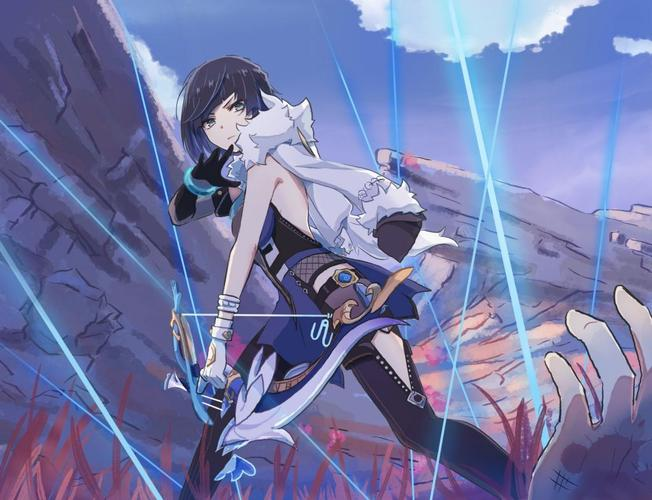夜兰: (165, 57, 528, 500)
